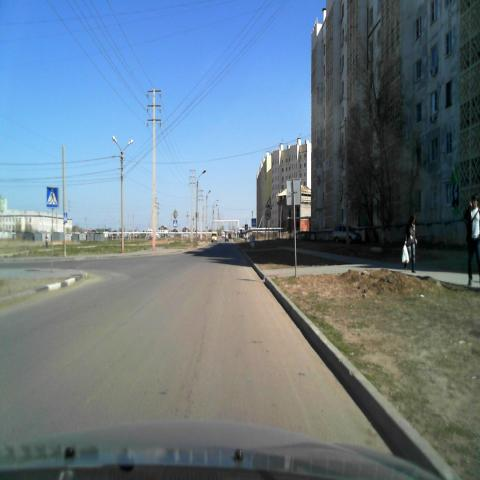1_17: (265, 196, 273, 209)
3_24: (265, 209, 272, 221)
5_19_1: (47, 188, 57, 208), (251, 217, 257, 227)
